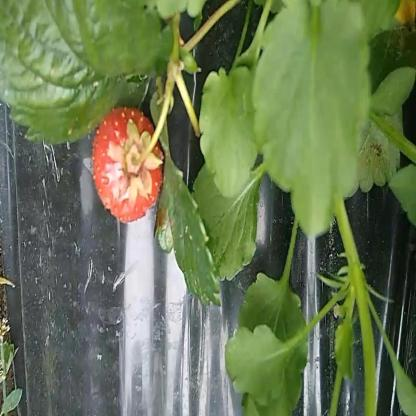ripe: (87, 106, 169, 230)
